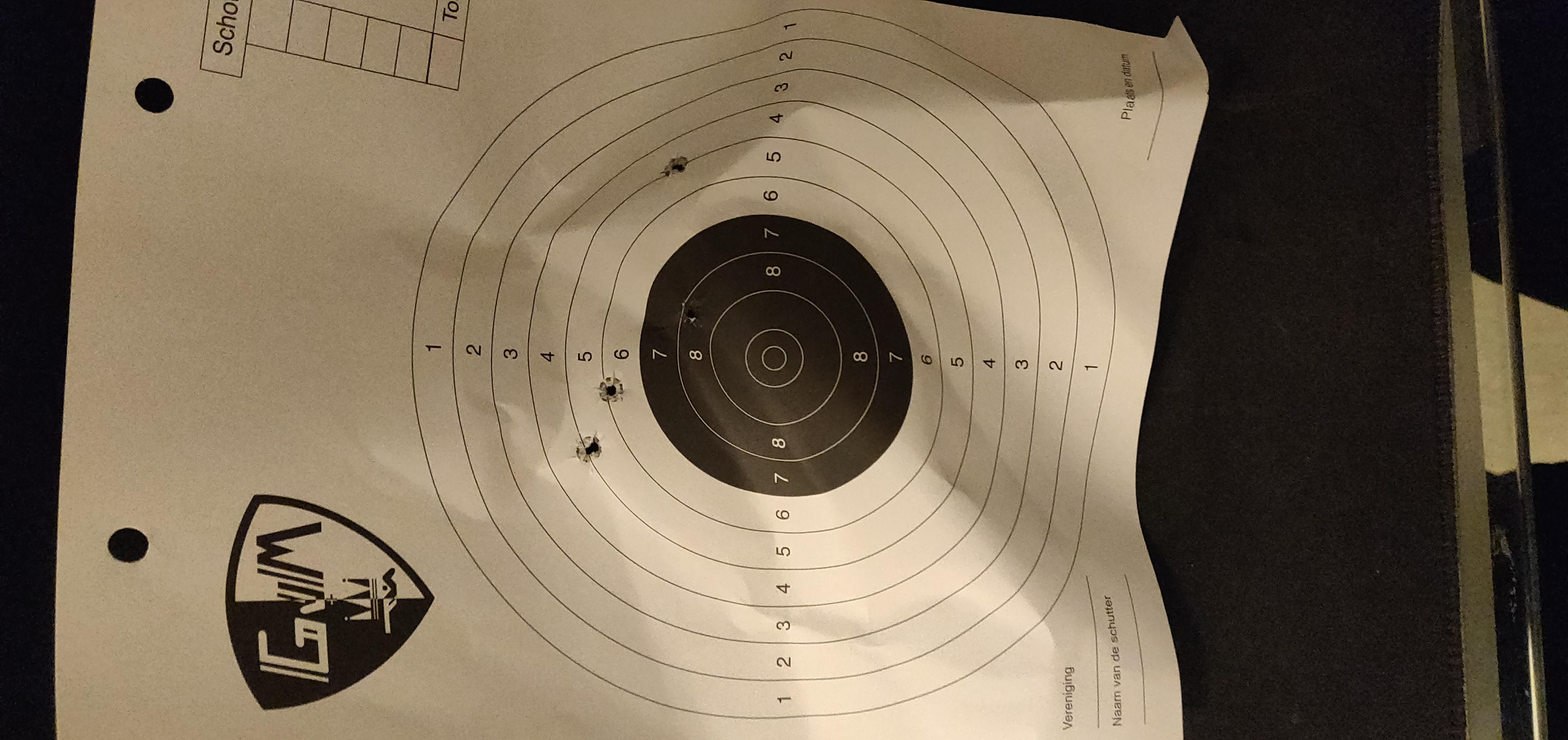hole: (572, 434, 604, 465), (595, 374, 625, 407), (676, 300, 704, 329), (661, 154, 691, 178)
